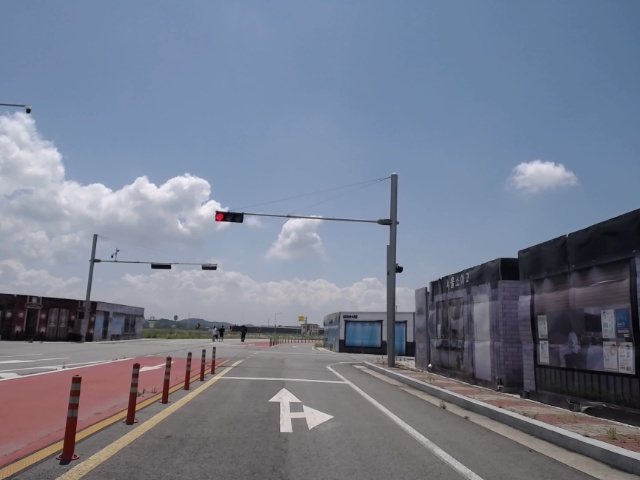red_3: (215, 210, 243, 224)
